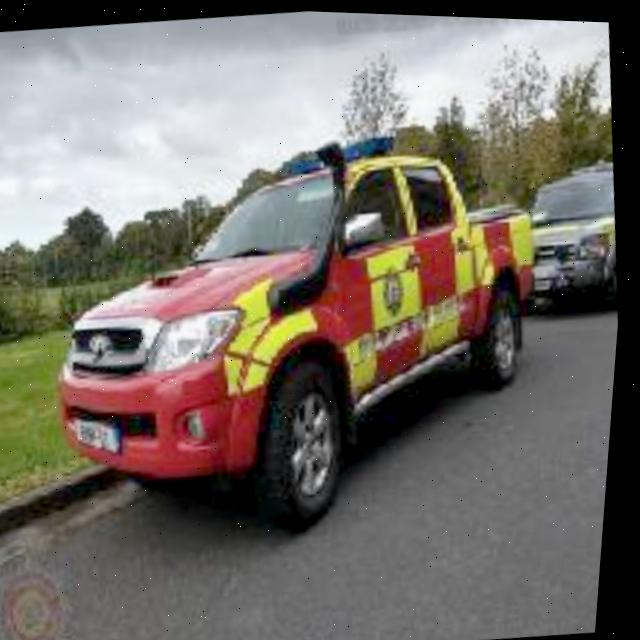emergency: (25, 120, 578, 559), (482, 136, 632, 326)
